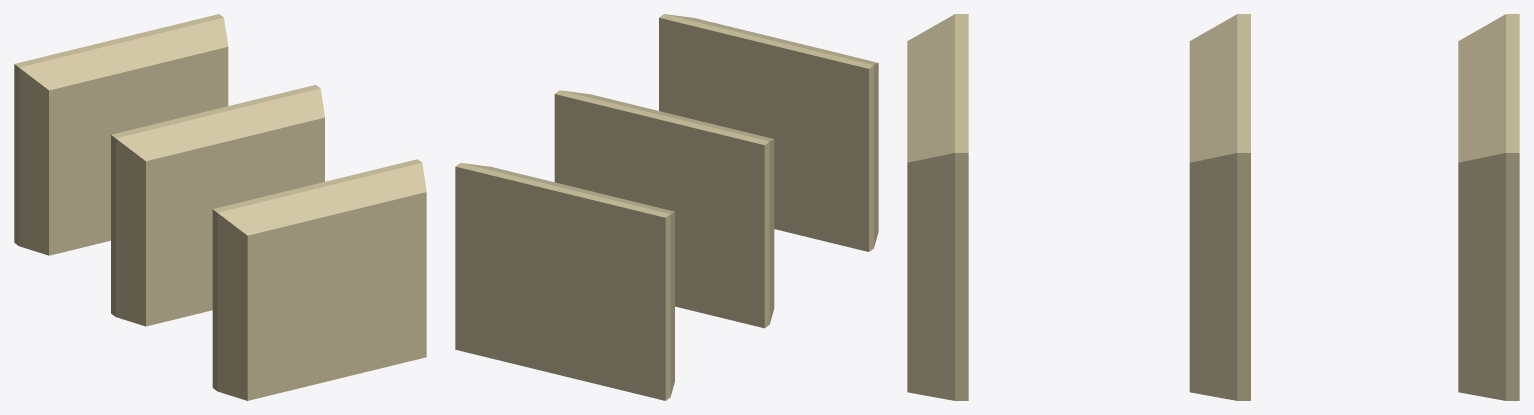
Rendered from cabinet.obj.
The picture shows the model from 3 angles, left to right: view 1: azimuth 30°, elevation 25°; view 2: azimuth 150°, elevation 25°; view 3: azimuth 270°, elevation 25°; orthographic projection. The views are drawn at different scales.
Parts seen in each view (by area): view 1: Mesh3 Shelving_12in3 Model, Mesh1 Shelving_12in1 Model, Mesh2 Shelving_12in2 Model; view 2: Mesh2 Shelving_12in2 Model, Mesh3 Shelving_12in3 Model, Mesh1 Shelving_12in1 Model; view 3: Mesh2 Shelving_12in2 Model, Mesh3 Shelving_12in3 Model, Mesh1 Shelving_12in1 Model.
Part boxes in pixels (x1,y1,x2,y2): Mesh3 Shelving_12in3 Model: (212,159,426,400); Mesh1 Shelving_12in1 Model: (111,85,324,326); Mesh2 Shelving_12in2 Model: (14,14,228,255); Mesh2 Shelving_12in2 Model: (455,163,674,400); Mesh3 Shelving_12in3 Model: (659,14,878,251); Mesh1 Shelving_12in1 Model: (554,90,774,328); Mesh2 Shelving_12in2 Model: (1458,14,1519,400); Mesh3 Shelving_12in3 Model: (907,14,968,400); Mesh1 Shelving_12in1 Model: (1189,14,1250,400).
Bounding box in the file's own units: 12 × 10 × 22.38.
